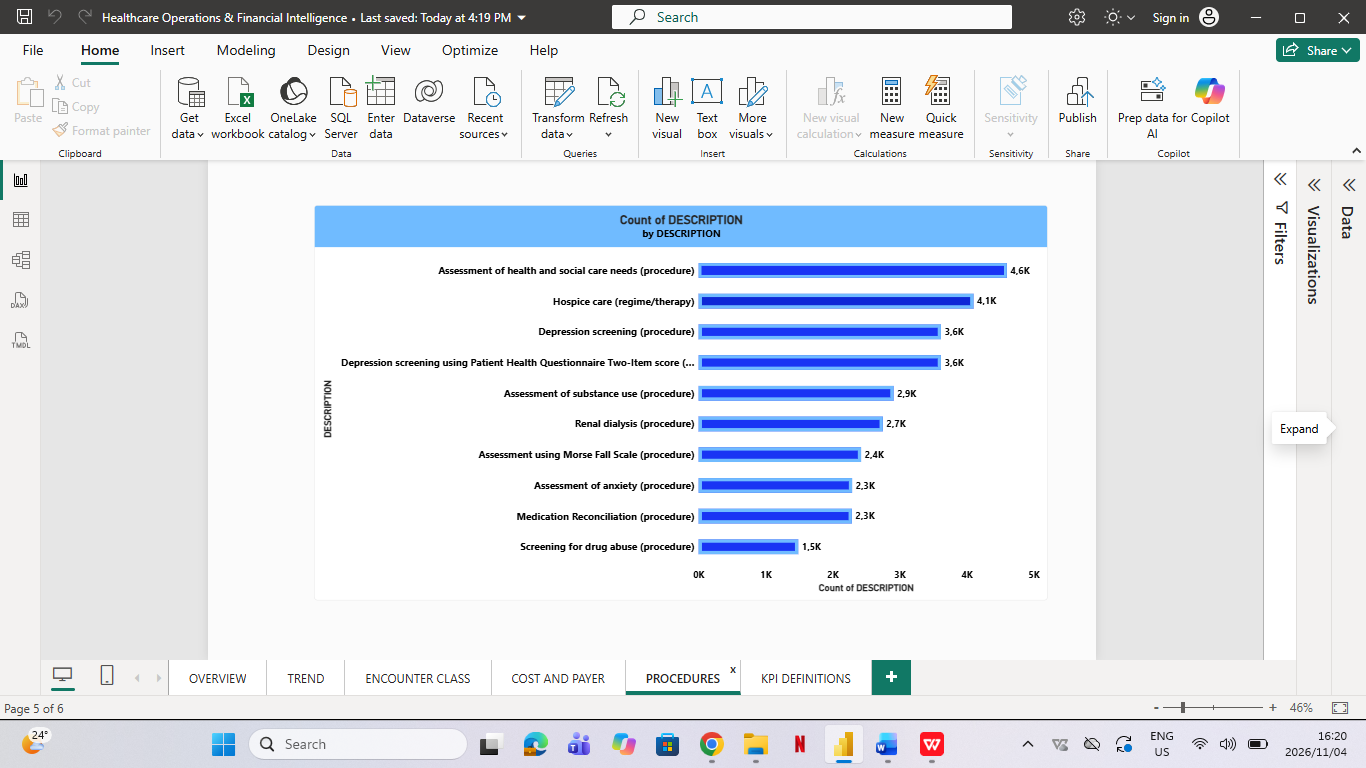

The dashboard page shown, as its layout file describes it:
{"tool":"powerbi","page":{"name":"PROCEDURES","canvas":[1920,1080],"ordinal":4},"visuals":[{"type":"clusteredBarChart","fields":{"Category":["procedures.DESCRIPTION"],"Y":["CountNonNull(procedures.DESCRIPTION)"]},"box":[229.3,98.3,1584.9,854.2],"z":0}]}

Visuals, with their boxes on the page's 1920x1080 design canvas (x1, y1, x2, y2). These are canvas units, not pixel positions in the 1366x768 screenshot, which may show the page scaled, cropped or inside an application window:
clusteredBarChart - procedures.DESCRIPTION x CountNonNull(procedures.DESCRIPTION): (229, 98, 1814, 952)
